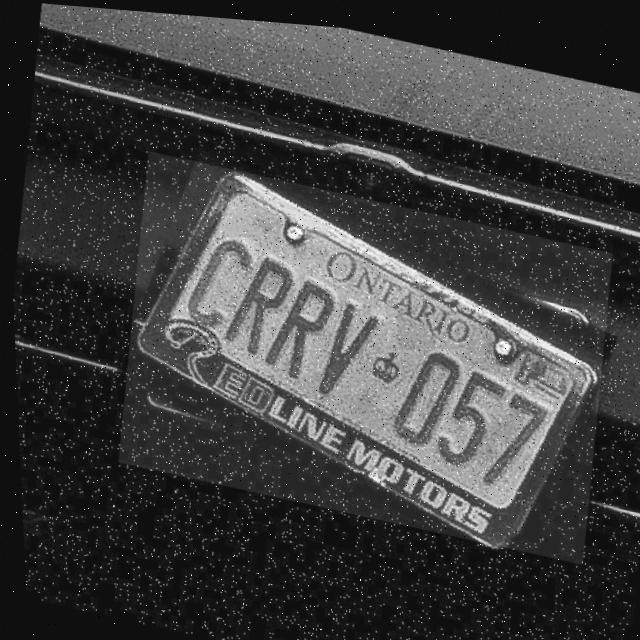LicensePlate: (103, 146, 622, 559)
